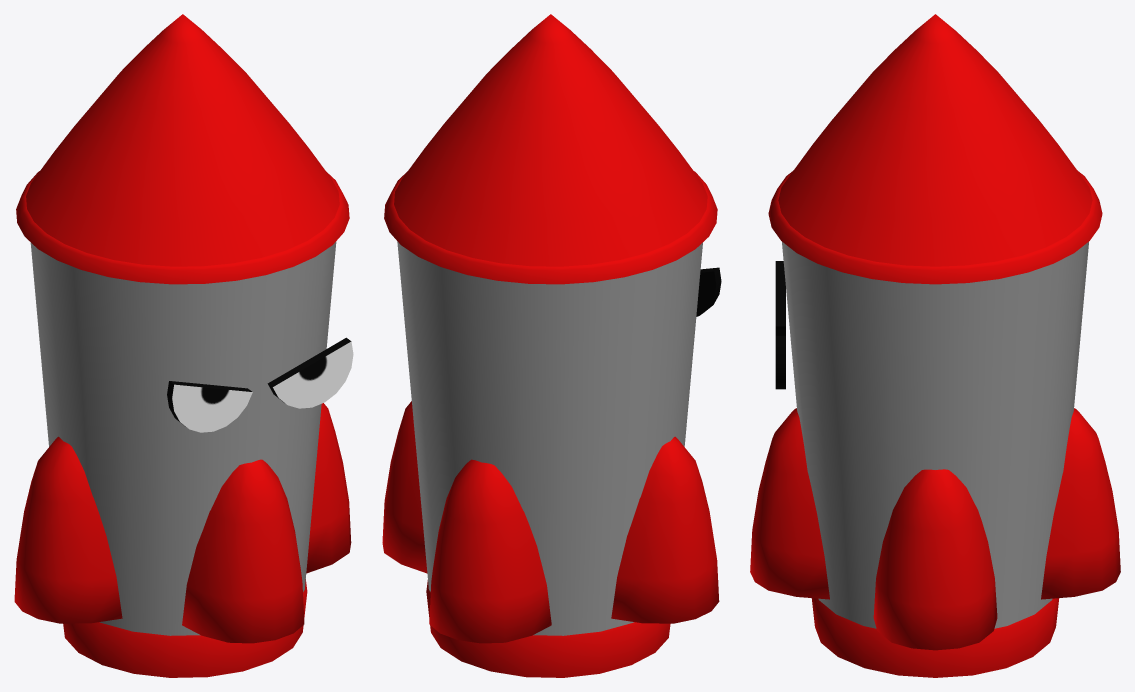
3 renders of one model, left to right at view 1: azimuth 30°, elevation 25°; view 2: azimuth 150°, elevation 25°; view 3: azimuth 270°, elevation 25°, orthographic.
Parts seen in each view (by area): view 1: pCylinder3, kasa, polySurface3, polySurface5, pCylinder2, pCylinder4, polySurface1; view 2: pCylinder3, kasa, polySurface4, polySurface5, pCylinder2, polySurface1, pCylinder4; view 3: pCylinder3, kasa, polySurface1, polySurface3, polySurface4, pCylinder2, pCylinder4.
Boxes of the visible parts, x1,y1,x2,y2 form: pCylinder3: (30, 241, 336, 635); kasa: (16, 14, 349, 284); polySurface3: (182, 459, 304, 643); polySurface5: (14, 436, 122, 623); pCylinder2: (63, 579, 307, 677); pCylinder4: (167, 337, 353, 432); polySurface1: (306, 403, 351, 573); pCylinder3: (397, 241, 702, 635); kasa: (384, 14, 717, 284); polySurface4: (429, 459, 551, 643); polySurface5: (611, 436, 719, 623); pCylinder2: (426, 580, 670, 677); polySurface1: (382, 401, 427, 573); pCylinder4: (696, 267, 721, 316); pCylinder3: (782, 242, 1088, 628); kasa: (768, 14, 1102, 284); polySurface1: (873, 469, 997, 650); polySurface3: (750, 408, 829, 599); polySurface4: (1041, 408, 1120, 599); pCylinder2: (811, 598, 1059, 677); pCylinder4: (775, 261, 785, 389).
Bounding box in the file's own units: 163 × 297 × 163.
